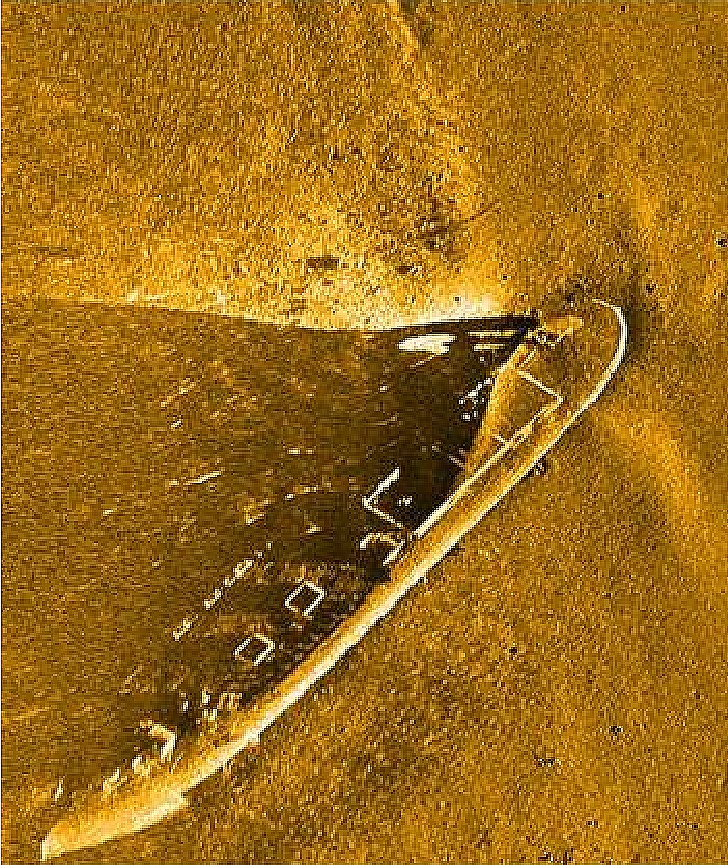ship: (36, 295, 630, 864)
